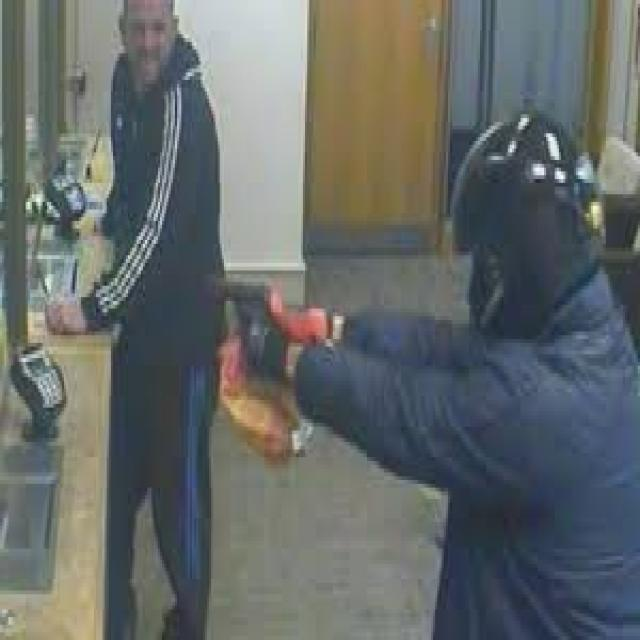weapons: (205, 246, 288, 372)
